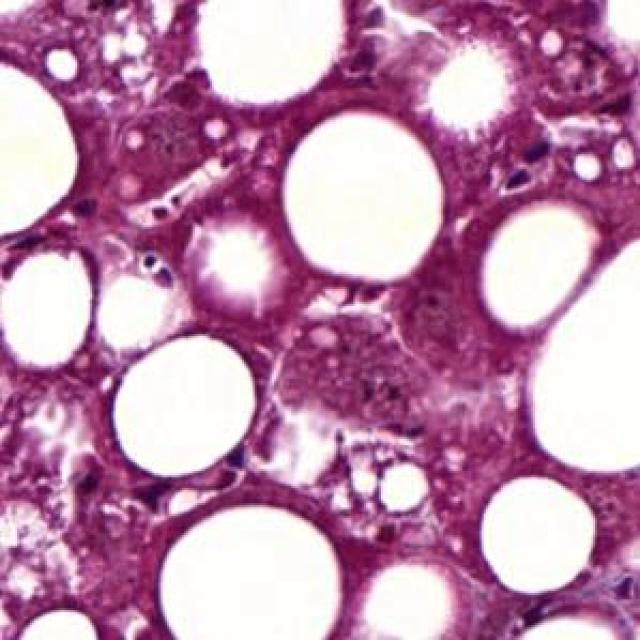steatosis: (282, 109, 450, 285), (107, 330, 255, 477)
